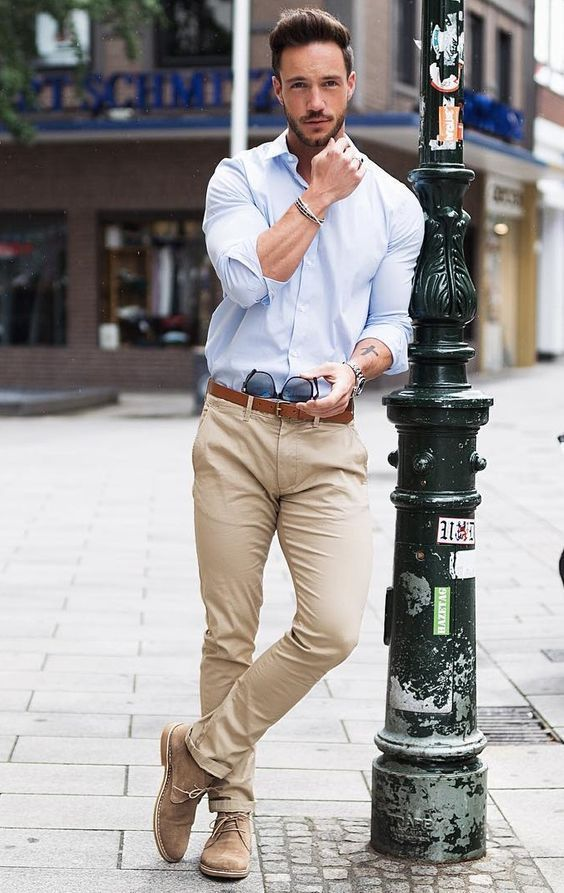NOTSAFE: (199, 9, 389, 454)
